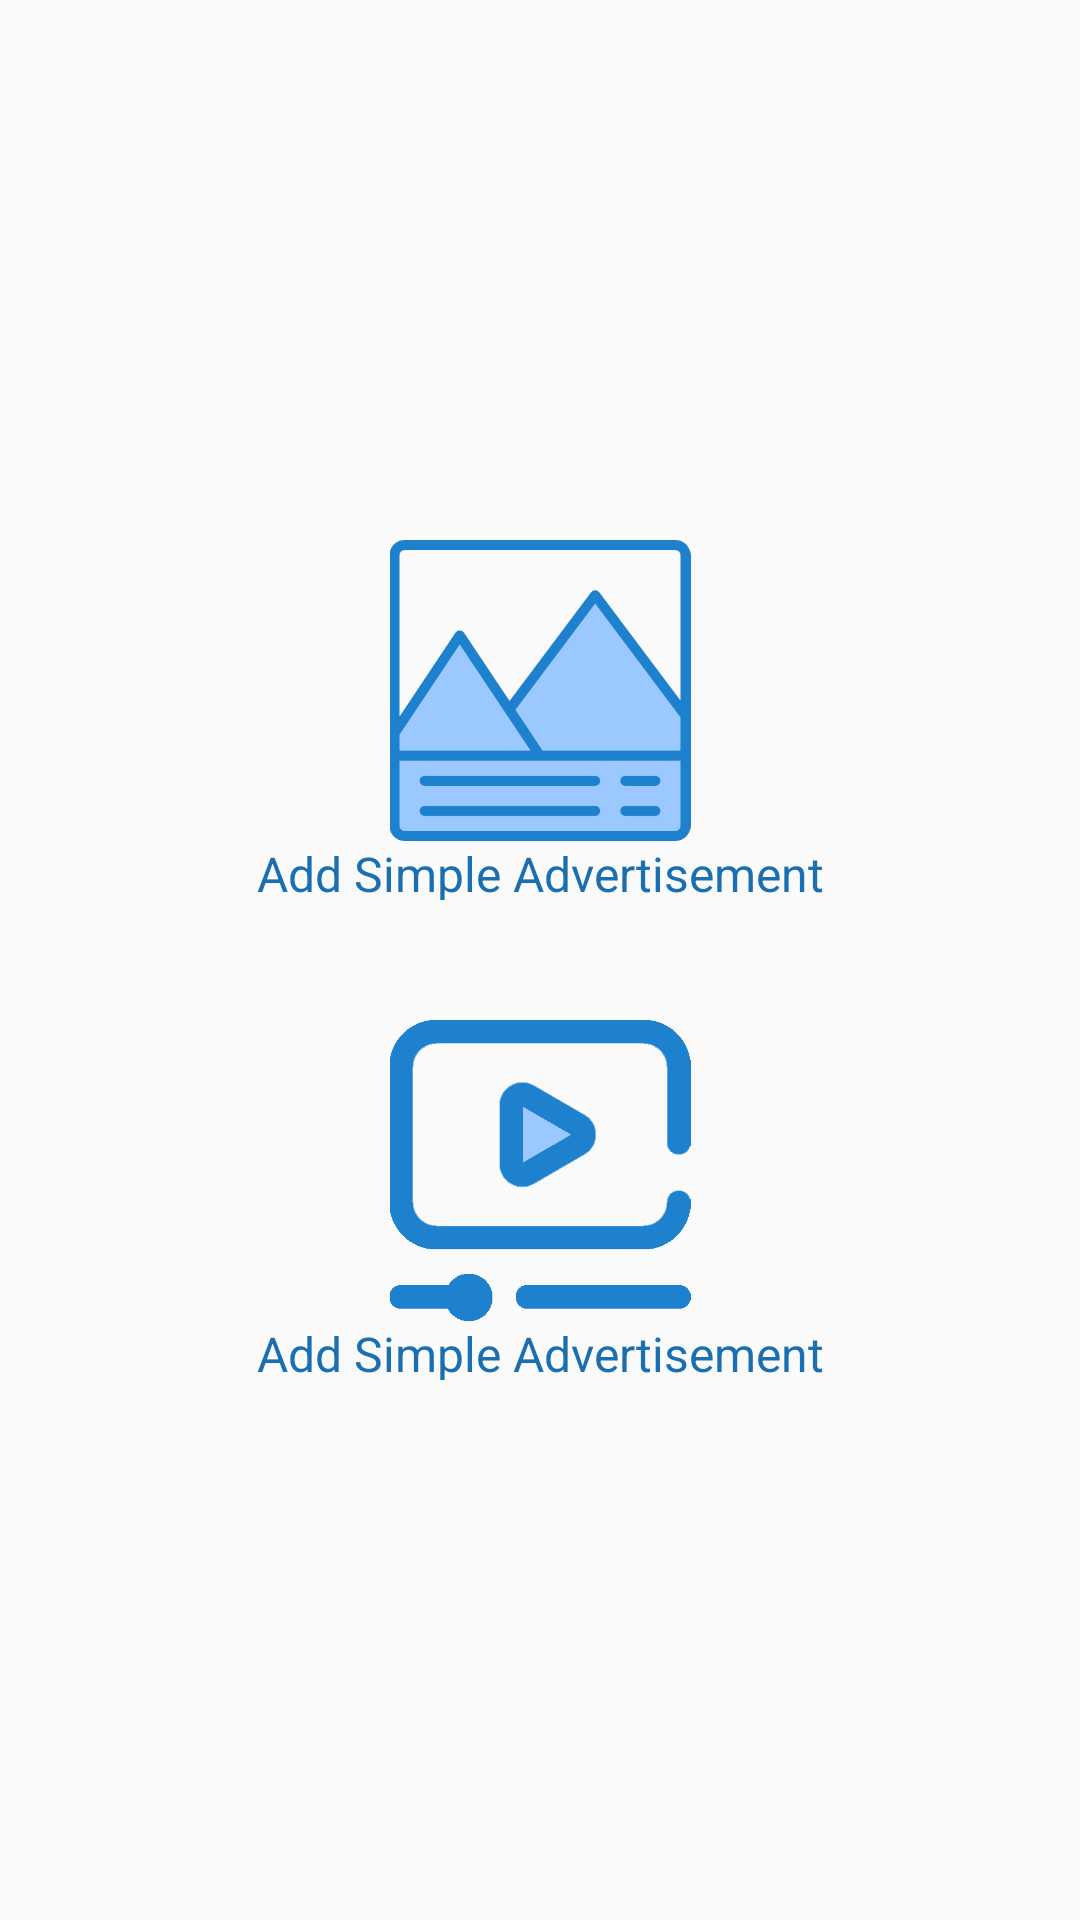

Icon click points for this 1080*1920 phone screenshot, format (x,y):
video add: (540,1170)
